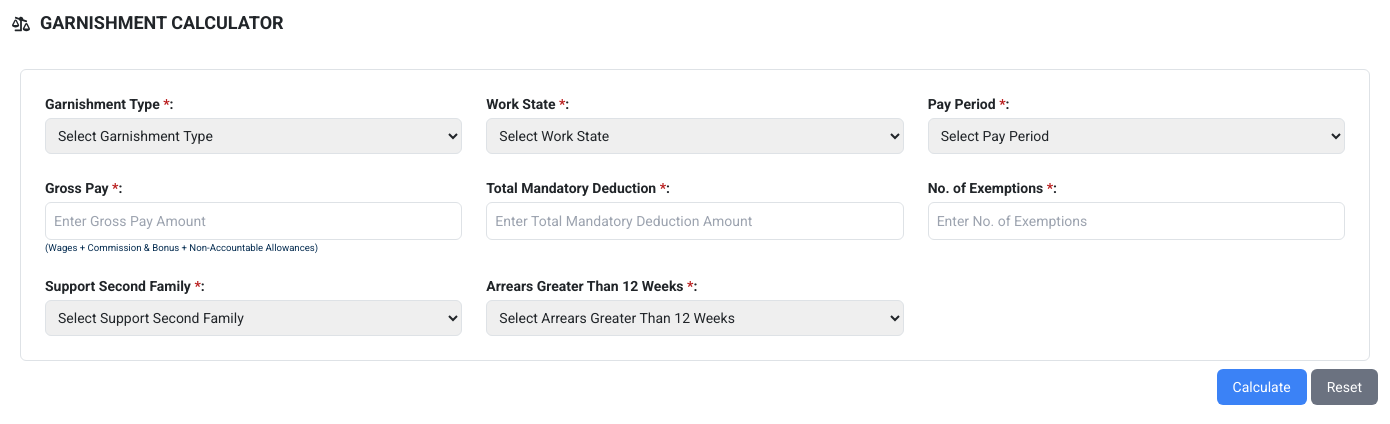
Garnishment2 Component › shows additional fields for Creditor Debt
Select Creditor Debt
Select "Creditor Debt" in the dropdown labelled "Garnishment Type *:" at (254, 136), box [45,118,462,154]
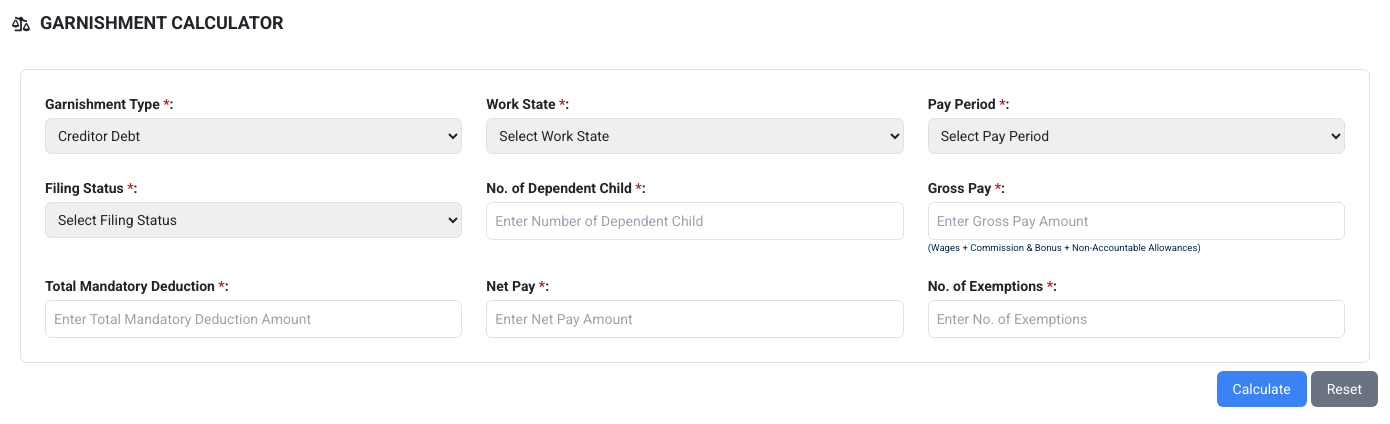
Check: the dropdown labelled "Filing Status *:" is shown, box [45,202,462,238]
Check: the number field labelled "No. of Dependent Child *:" is shown, box [486,202,904,240]
Check: the label labelled "Support Second Family *" is gone
